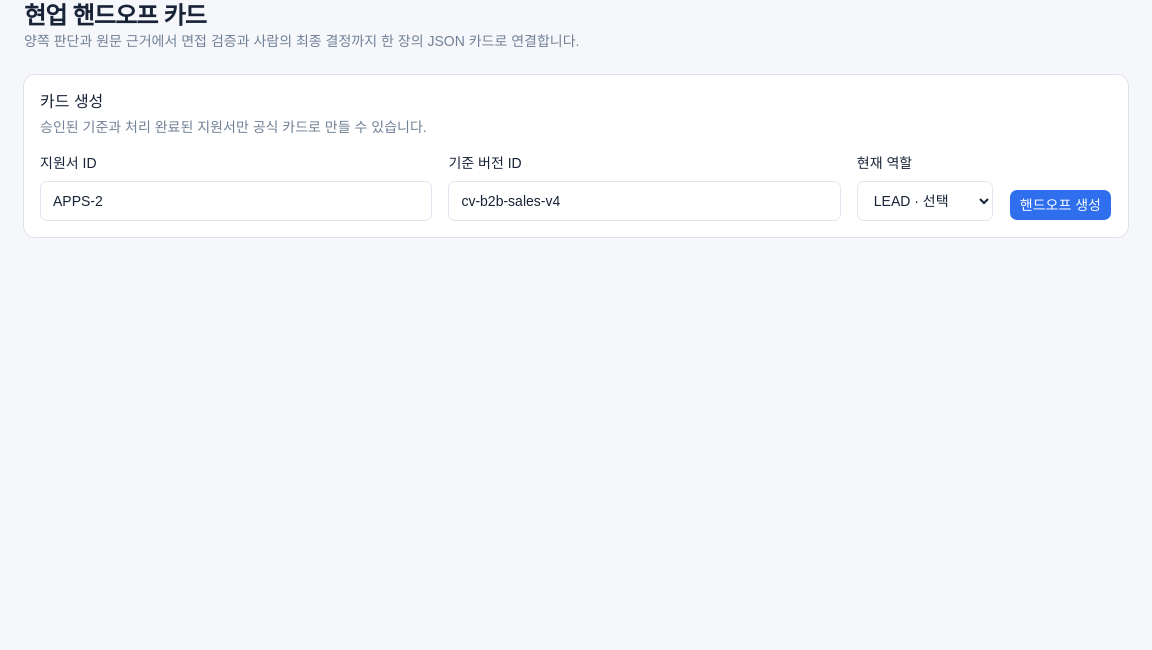
Test: handoff question workflow › records a selected question result and a human final decision
The image size is (1152, 650).
Click the button "핸드오프 생성": (1060, 205) [1009, 189, 1112, 221]
(page scrolled)
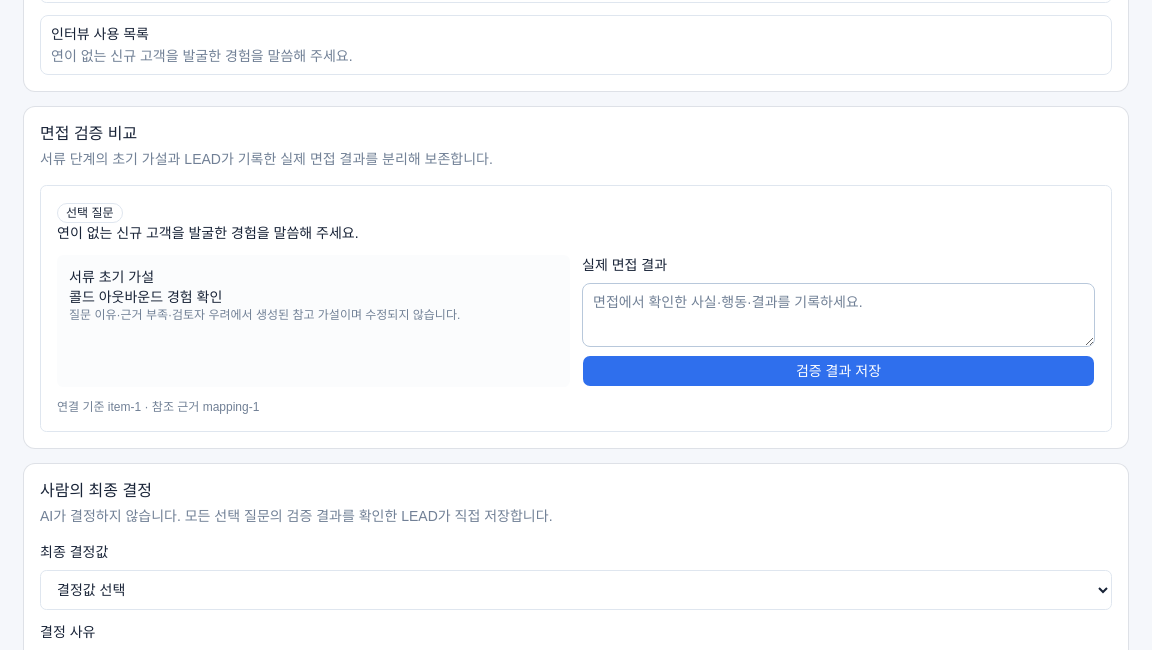
In the text box named "면접 결과 question-1": (838, 315) [582, 283, 1095, 347], type "실제 면접에서 신규 고객 발굴 과정을 확인했습니다."
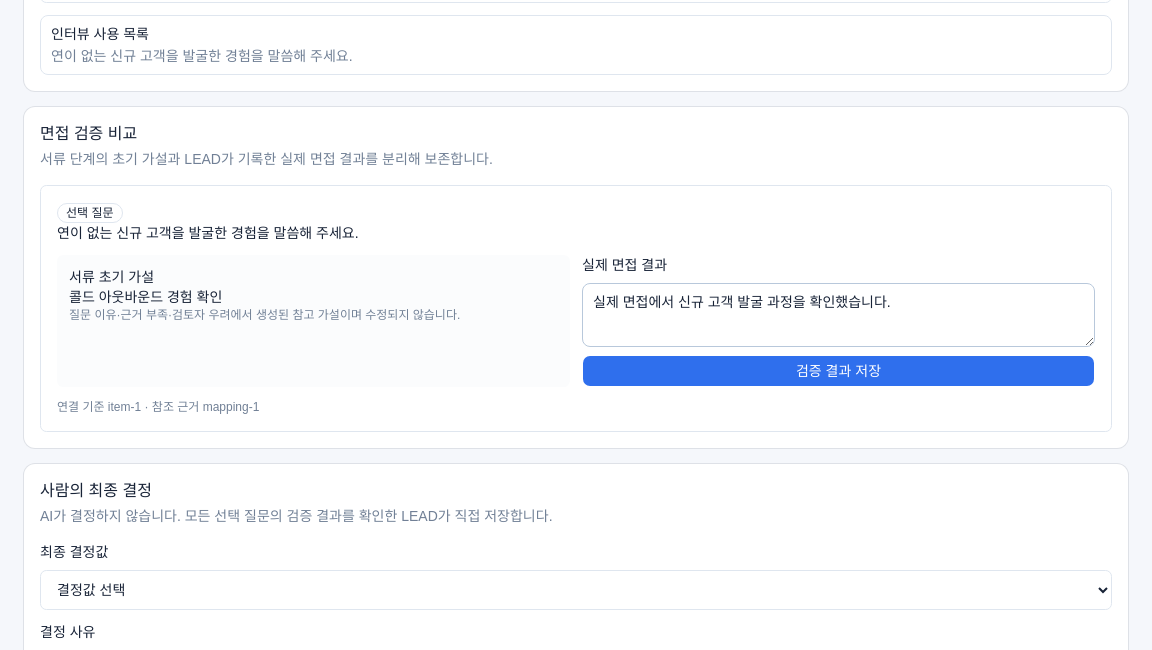
Click the button "검증 결과 저장": (838, 371) [582, 355, 1095, 387]
(page scrolled)
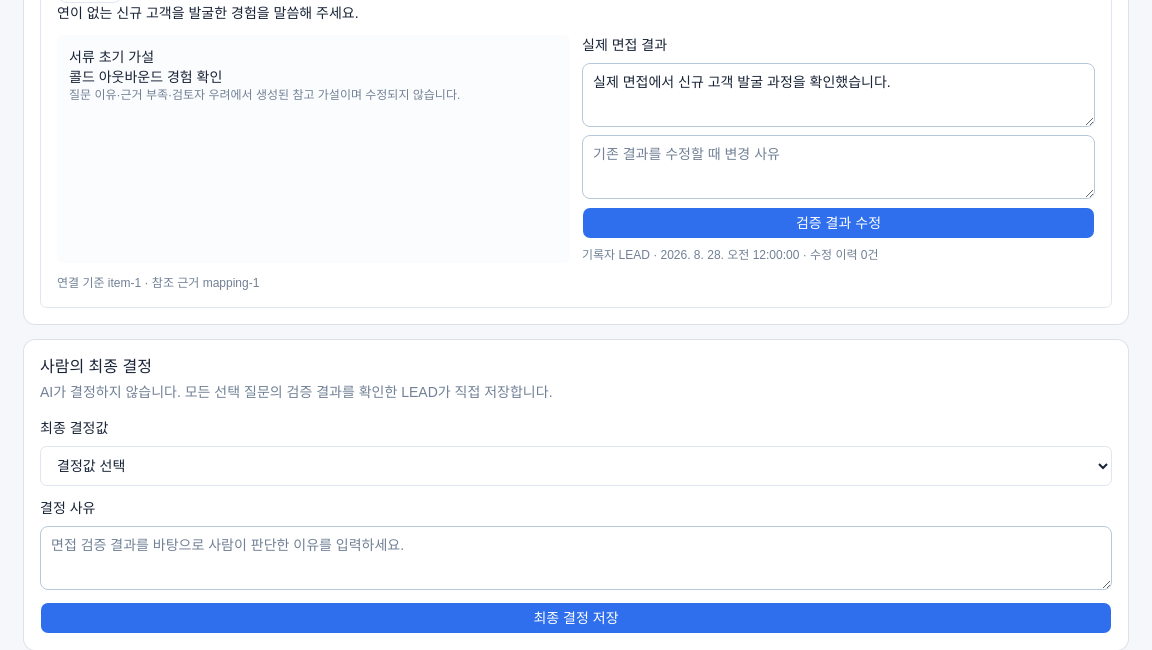
Select "채용" in the dropdown labelled "최종 결정값": (576, 466) [40, 446, 1112, 486]
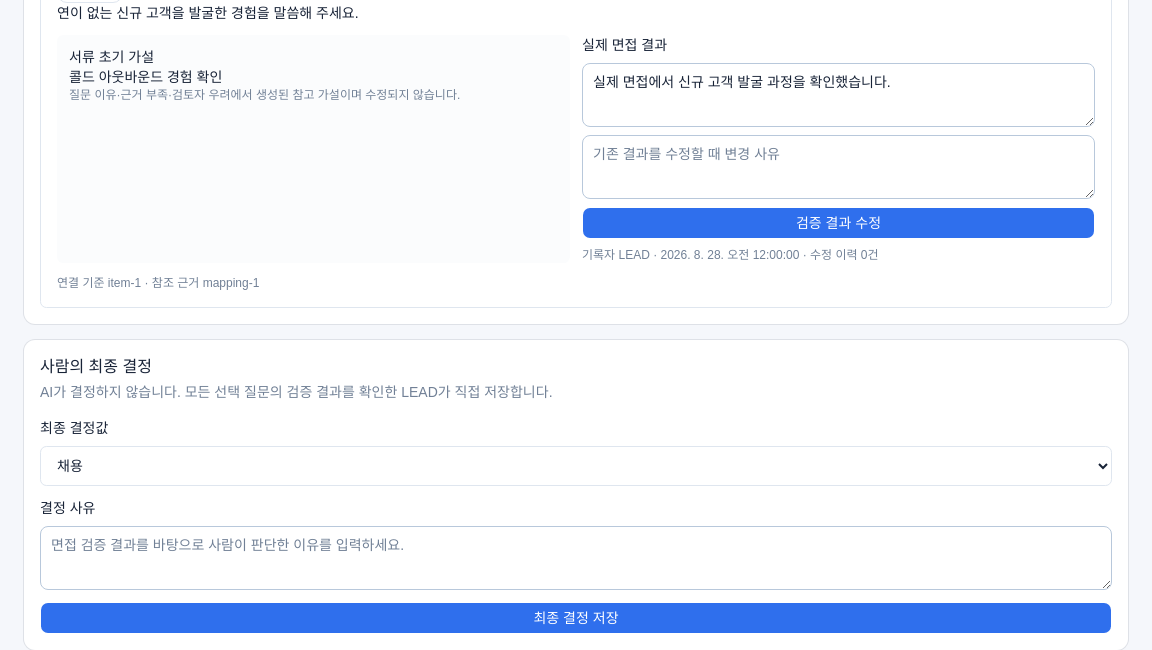
In the text box labelled "결정 사유": (576, 558) [40, 526, 1112, 590], type "검증 결과가 충분합니다."
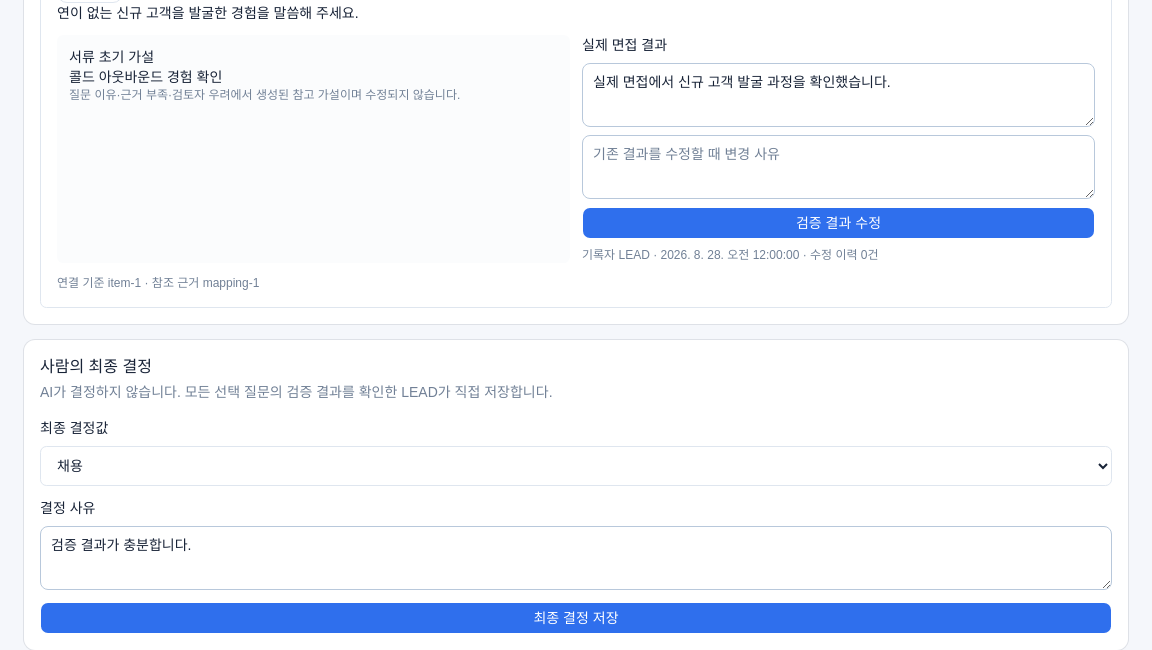
Click the button "최종 결정 저장": (576, 618) [40, 602, 1112, 634]
(page scrolled)
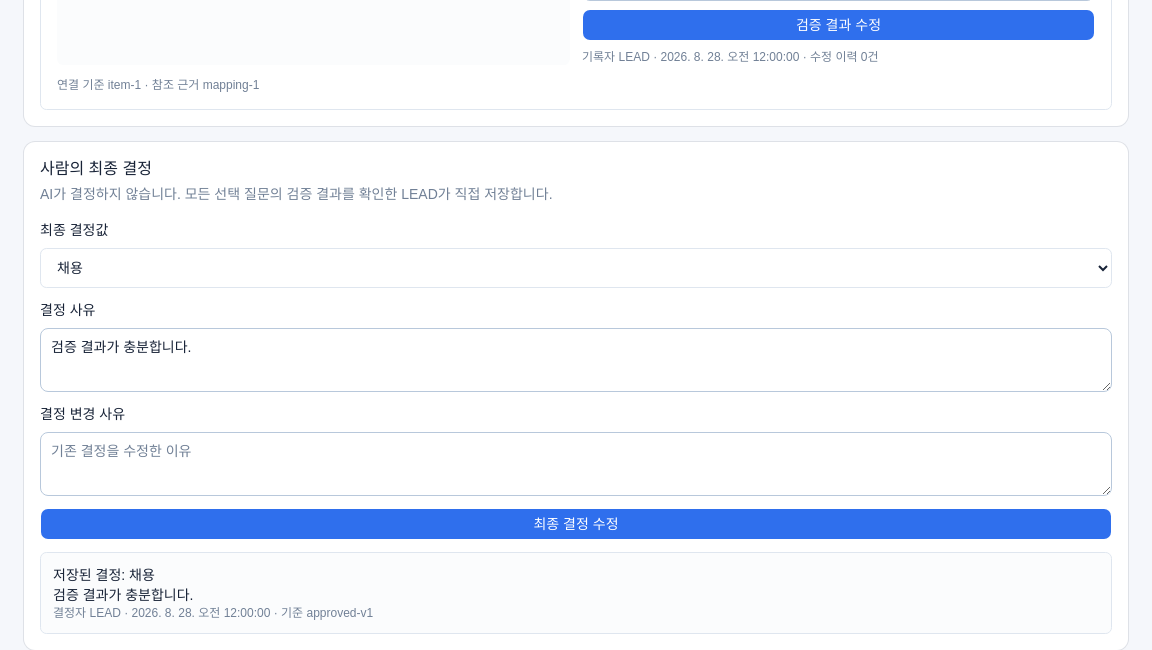
Expected: the text "저장된 결정: 채용" is shown, [53, 567, 155, 583]
